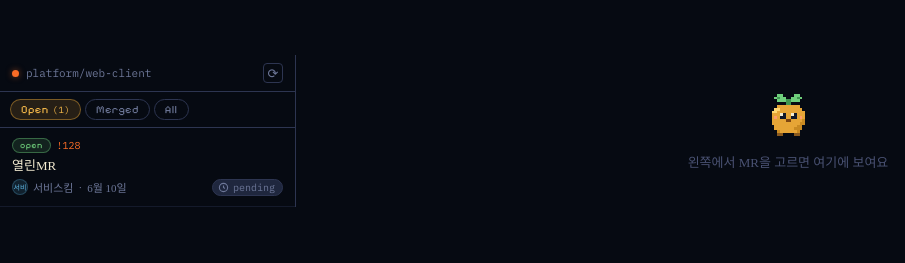
it: MRView — GitLab MR 뷰 (GL7) › 필터(open/merged/all)가 목록을 거른다
Expected: the text "열린MR" is shown, left=12, top=158, right=56, bottom=173
Click the button "Merged". click: (118, 110)
box: left=85, top=99, right=150, bottom=120
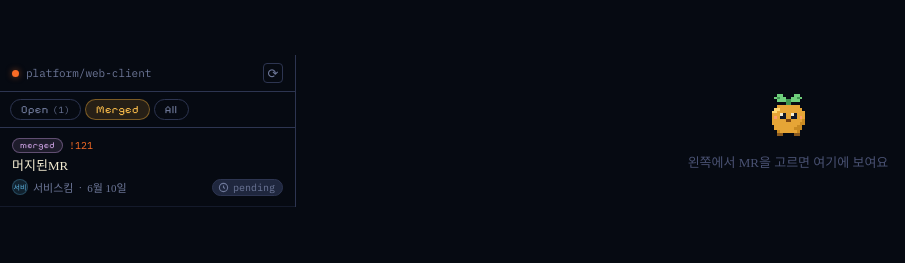
Expected: the text "머지된MR" is shown, left=12, top=158, right=68, bottom=173
Expected: the text "열린MR" is gone
Click the button "All". click: (171, 110)
box: left=154, top=99, right=188, bottom=120
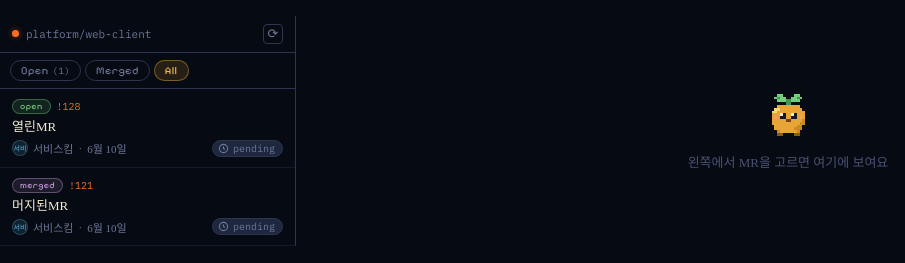
Expected: the text "머지된MR" is shown, left=12, top=198, right=68, bottom=212
Expected: the text "열린MR" is shown, left=12, top=119, right=56, bottom=134
